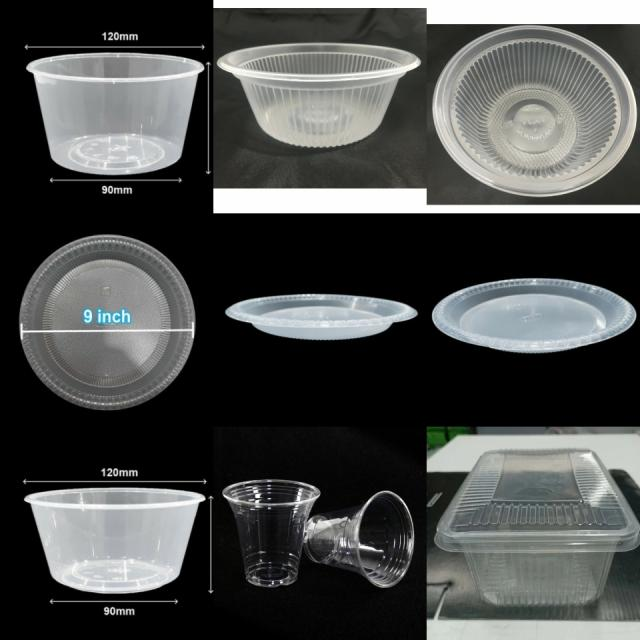Single-Use-Plastic: (432, 26, 636, 196), (435, 450, 640, 606), (20, 235, 195, 410), (26, 52, 204, 175), (218, 42, 420, 147), (25, 488, 205, 593), (432, 279, 636, 352), (304, 491, 414, 588), (222, 480, 320, 587), (226, 294, 418, 339)
